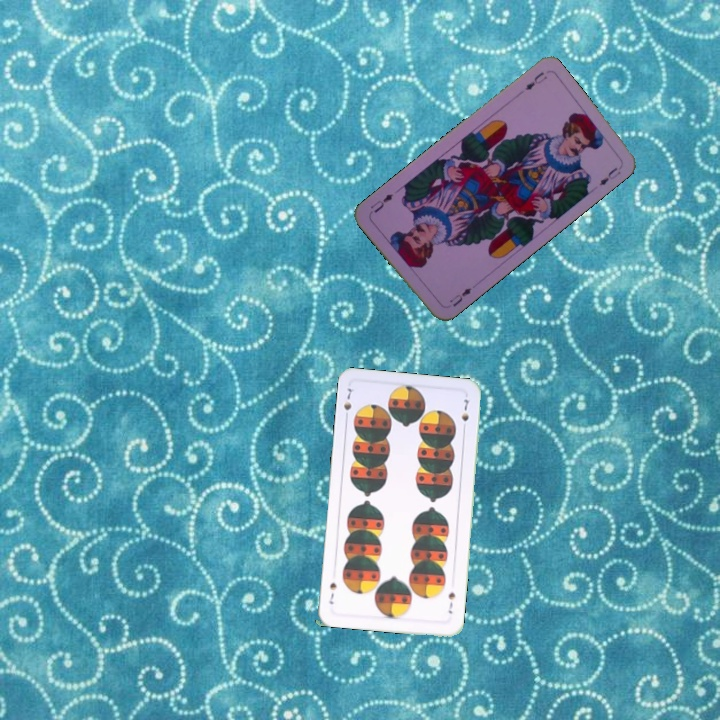EU: (445, 283, 474, 310), (521, 67, 550, 93)
S7: (340, 384, 354, 423), (444, 588, 457, 616)
